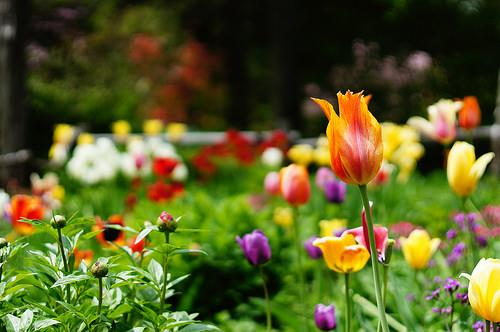tulip: (316, 88, 387, 187), (446, 143, 494, 196), (468, 255, 500, 328), (400, 227, 438, 270), (279, 163, 311, 208), (9, 191, 42, 234), (429, 98, 459, 142), (236, 231, 272, 267), (320, 237, 358, 271), (460, 94, 482, 129), (320, 174, 343, 205), (315, 303, 335, 328)
